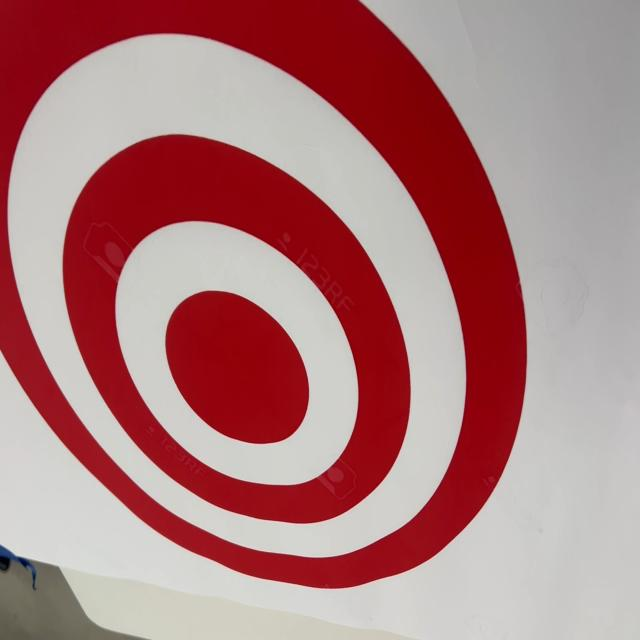target_red: (0, 0, 534, 618)
